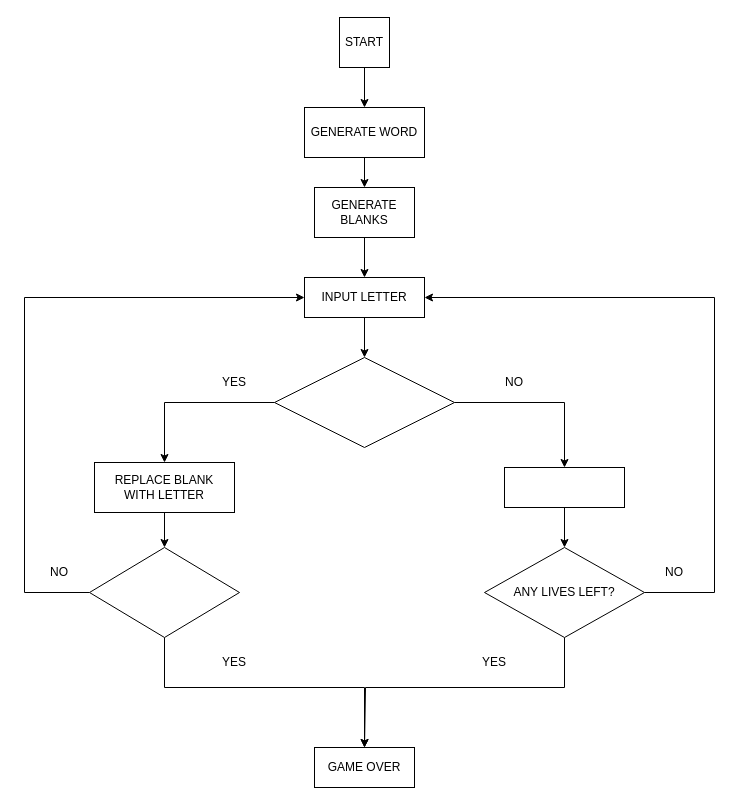
This 740x805 diagram has some shape labels left out. The shapes that lost their labels are listed below. From the top down, each one's centre as x and y in pixels, then its label:
At (364,402): "LETTER IN WORD?".
At (564,487): "LOSE A LIFE".
At (164,592): "ARE BLANKS FILLED?".
